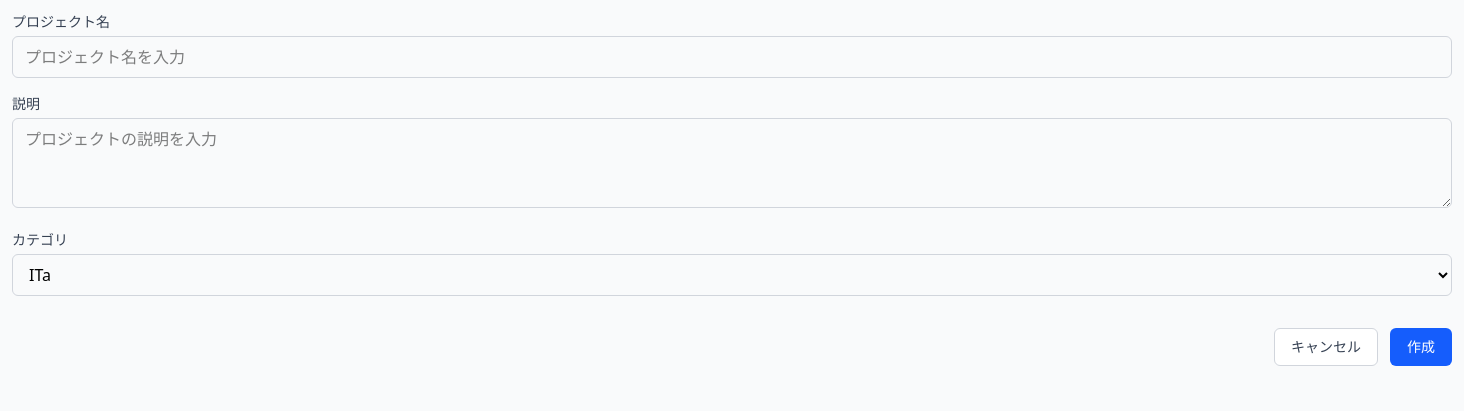
it: ProjectCreateForm › プロジェクト名が必須項目として機能する
Click the button "作成": (1421, 347) [1390,328,1452,366]
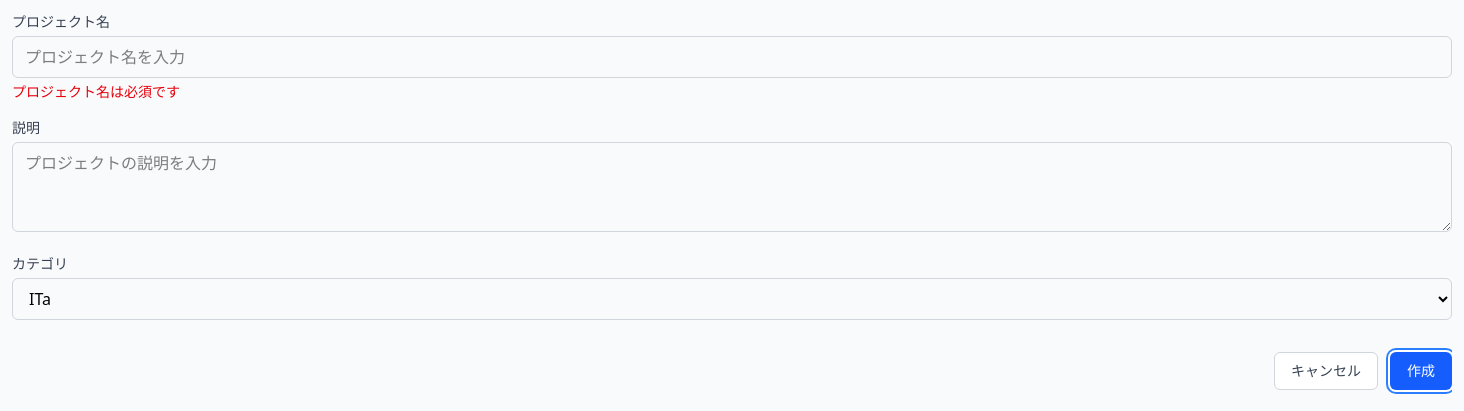
Expected: the text "プロジェクト名は必須です" is shown, [12,82,180,101]
